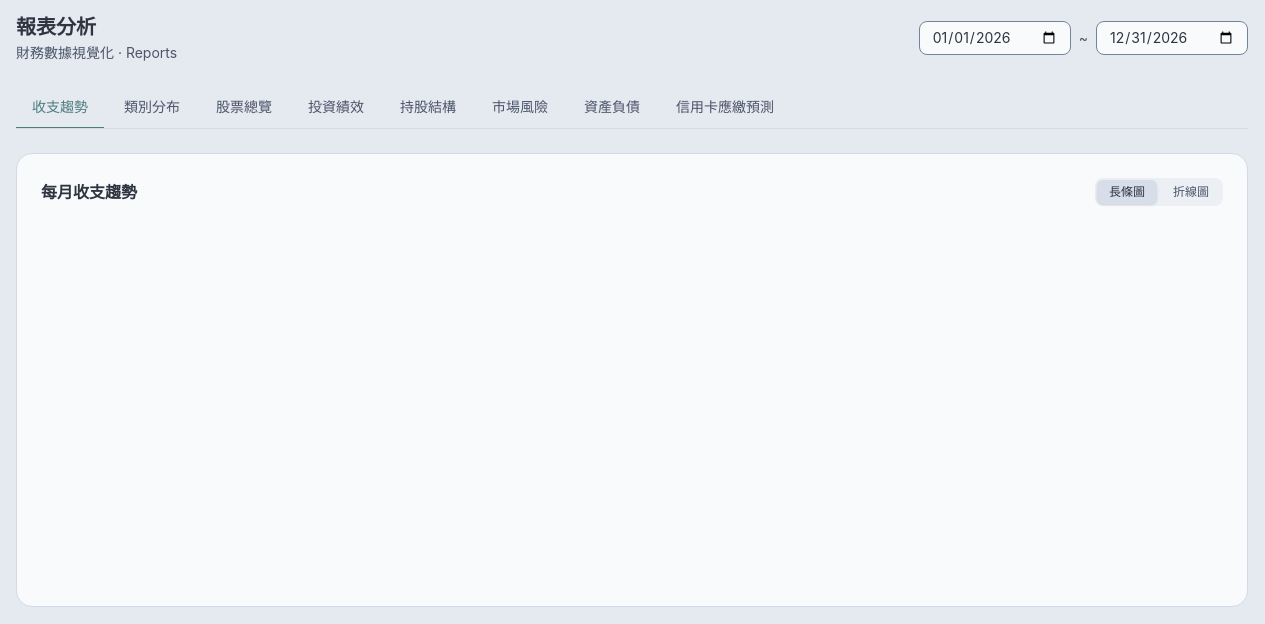
Test: report and snapshot query ownership › clears the previous trend period when the new period fails
Type "2026-02-01" into the 1st date field at (995, 38), box [919, 21, 1071, 55]
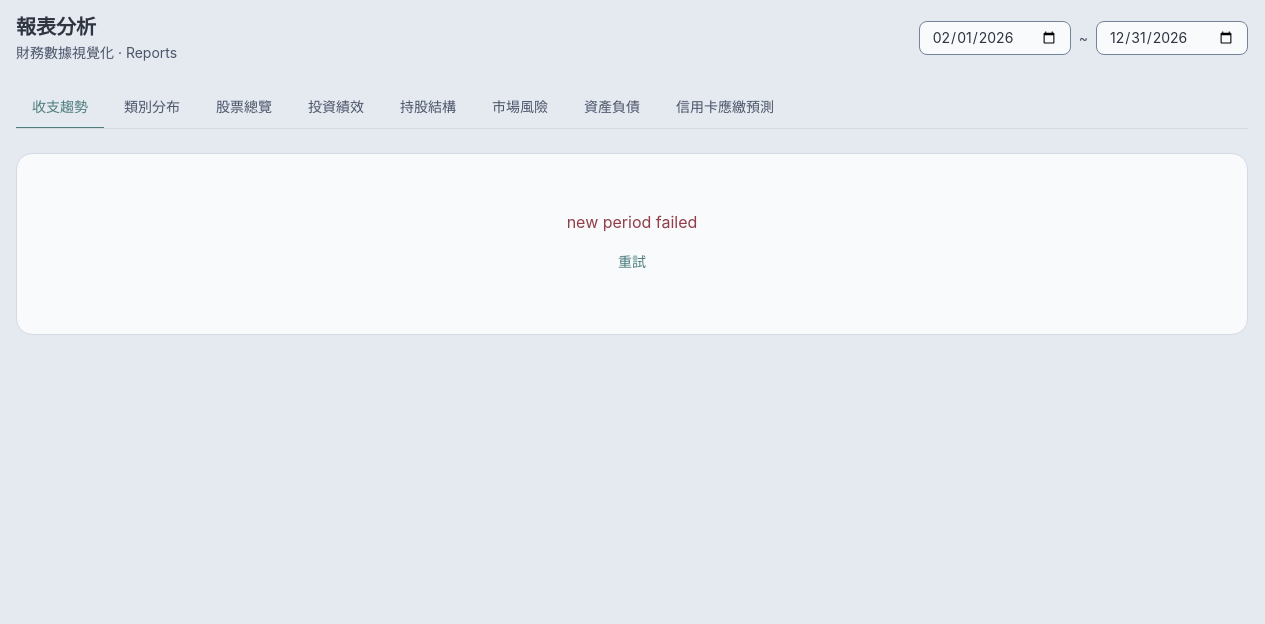
Check: the text "new period failed" is shown, box [567, 212, 697, 232]
